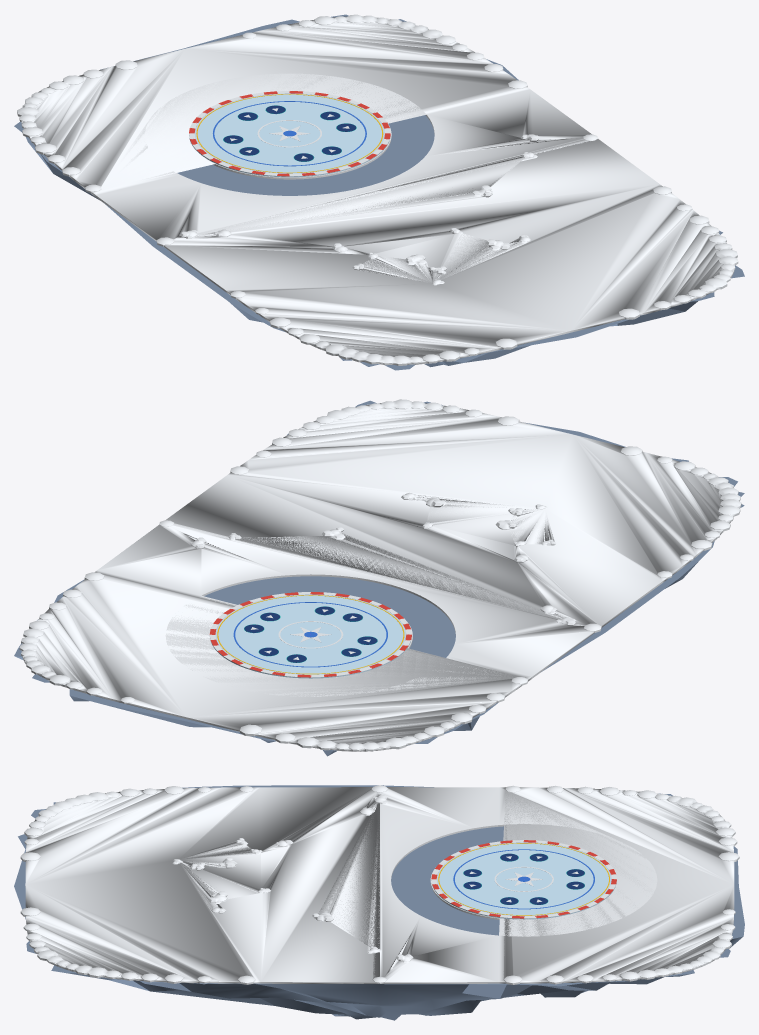
Rendered from AR_ArenaOpen.fbx.
The picture shows the model from 3 angles, top to bottom: view 1: azimuth 30°, elevation 25°; view 2: azimuth 150°, elevation 25°; view 3: azimuth 270°, elevation 25°; orthographic projection. The views are drawn at different scales.
Parts seen in each view (by area): view 1: Island__Snow__F6FAFFSP, ArenaOpenFloor__Ice__CDEBFFIC, Island__Rock__7F92ACSP, ArenaOpenFloor__Pad__1F3F7ASP, ArenaOpenFloor__EdgeRed__E8483DSP, ArenaOpenFloor__EdgeWhite__F2F6FBSP, ArenaOpenFloor__InlayBlue__3D7BE2SP, ArenaOpenFloor__Inlay__F2F6FBSP; view 2: Island__Snow__F6FAFFSP, ArenaOpenFloor__Ice__CDEBFFIC, Island__Rock__7F92ACSP, ArenaOpenFloor__Pad__1F3F7ASP, ArenaOpenFloor__EdgeRed__E8483DSP, ArenaOpenFloor__EdgeWhite__F2F6FBSP, ArenaOpenFloor__InlayBlue__3D7BE2SP, ArenaOpenFloor__Inlay__F2F6FBSP, ArenaOpenFloor__Hazard__FFC81ESP; view 3: Island__Snow__F6FAFFSP, Island__Rock__7F92ACSP, ArenaOpenFloor__Ice__CDEBFFIC, ArenaOpenFloor__Pad__1F3F7ASP, ArenaOpenFloor__EdgeRed__E8483DSP, ArenaOpenFloor__EdgeWhite__F2F6FBSP, ArenaOpenFloor__InlayBlue__3D7BE2SP, ArenaOpenFloor__Inlay__F2F6FBSP, ArenaOpenFloor__Hazard__FFC81ESP.
Boxes of the visible parts, left/top/right/bottom form: Island__Snow__F6FAFFSP: left=17, top=14, right=738, bottom=365; ArenaOpenFloor__Ice__CDEBFFIC: left=189, top=93, right=390, bottom=177; Island__Rock__7F92ACSP: left=14, top=14, right=744, bottom=370; ArenaOpenFloor__Pad__1F3F7ASP: left=223, top=105, right=356, bottom=161; ArenaOpenFloor__EdgeRed__E8483DSP: left=189, top=91, right=390, bottom=176; ArenaOpenFloor__EdgeWhite__F2F6FBSP: left=189, top=91, right=390, bottom=176; ArenaOpenFloor__InlayBlue__3D7BE2SP: left=213, top=101, right=366, bottom=166; ArenaOpenFloor__Inlay__F2F6FBSP: left=230, top=108, right=349, bottom=158; Island__Snow__F6FAFFSP: left=19, top=399, right=741, bottom=751; ArenaOpenFloor__Ice__CDEBFFIC: left=210, top=594, right=411, bottom=678; Island__Rock__7F92ACSP: left=14, top=400, right=744, bottom=756; ArenaOpenFloor__Pad__1F3F7ASP: left=244, top=606, right=377, bottom=662; ArenaOpenFloor__EdgeRed__E8483DSP: left=209, top=592, right=411, bottom=677; ArenaOpenFloor__EdgeWhite__F2F6FBSP: left=209, top=592, right=411, bottom=677; ArenaOpenFloor__InlayBlue__3D7BE2SP: left=233, top=602, right=387, bottom=667; ArenaOpenFloor__Inlay__F2F6FBSP: left=251, top=609, right=370, bottom=659; ArenaOpenFloor__Hazard__FFC81ESP: left=217, top=595, right=404, bottom=674; Island__Snow__F6FAFFSP: left=20, top=785, right=739, bottom=984; Island__Rock__7F92ACSP: left=14, top=785, right=744, bottom=1020; ArenaOpenFloor__Ice__CDEBFFIC: left=431, top=842, right=616, bottom=919; ArenaOpenFloor__Pad__1F3F7ASP: left=463, top=853, right=584, bottom=904; ArenaOpenFloor__EdgeRed__E8483DSP: left=431, top=840, right=616, bottom=918; ArenaOpenFloor__EdgeWhite__F2F6FBSP: left=431, top=840, right=616, bottom=918; ArenaOpenFloor__InlayBlue__3D7BE2SP: left=453, top=849, right=594, bottom=909; ArenaOpenFloor__Inlay__F2F6FBSP: left=469, top=856, right=578, bottom=902; ArenaOpenFloor__Hazard__FFC81ESP: left=438, top=843, right=609, bottom=915.
Bounding box in the file's own units: 231 × 73.68 × 355.
